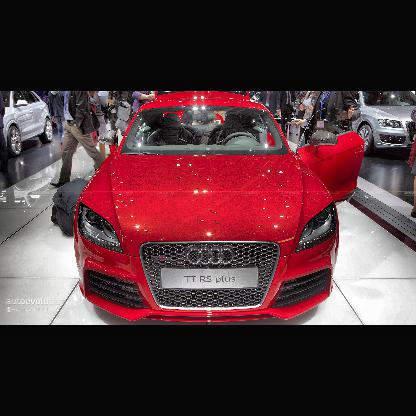Audi TT RS Coupe 2012: (75, 95, 366, 322)
